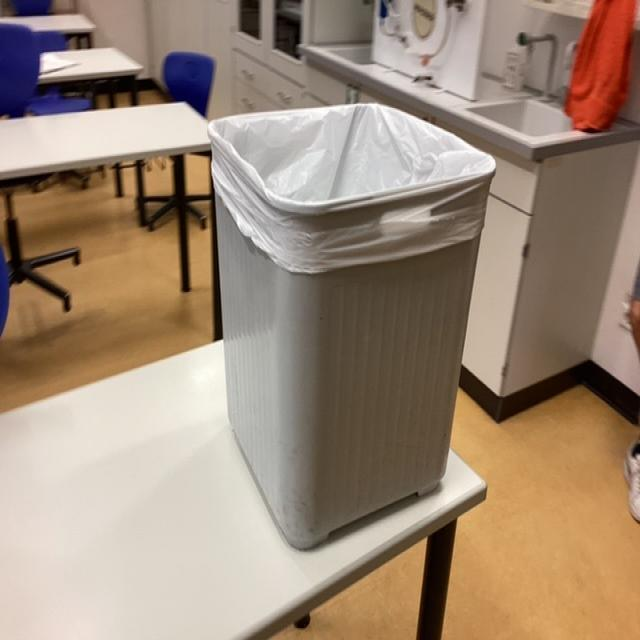garbage container: (172, 69, 508, 586)
